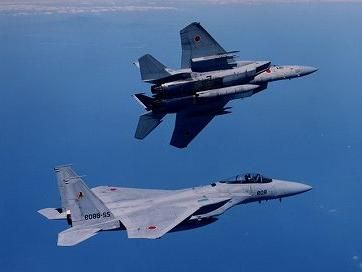airplane: (34, 157, 312, 249), (123, 18, 314, 143)
